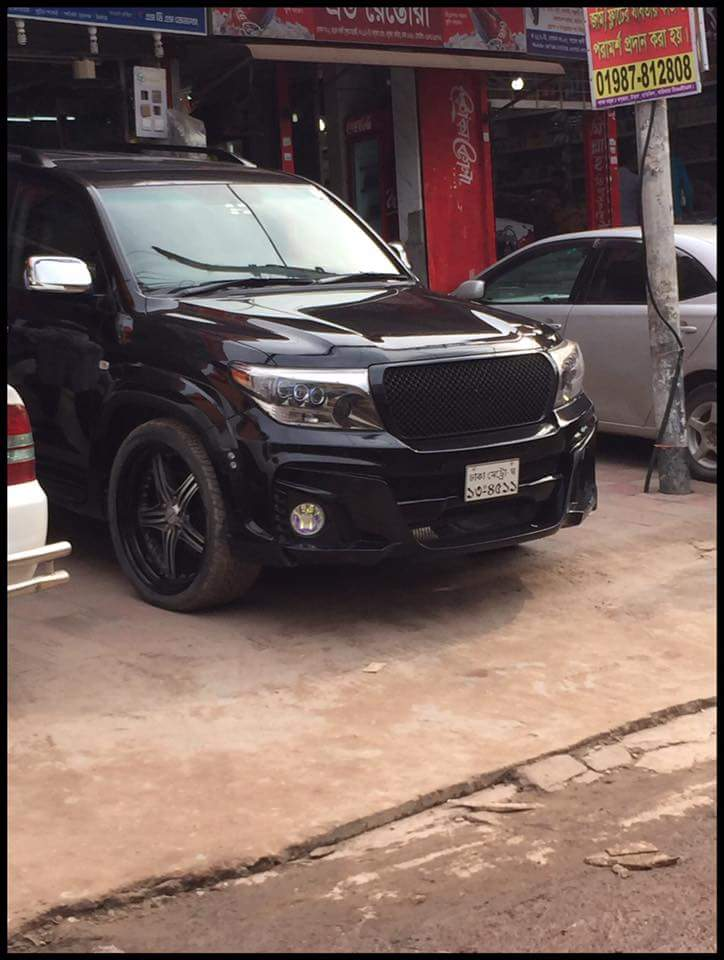registration_plate: (464, 457, 521, 502)
